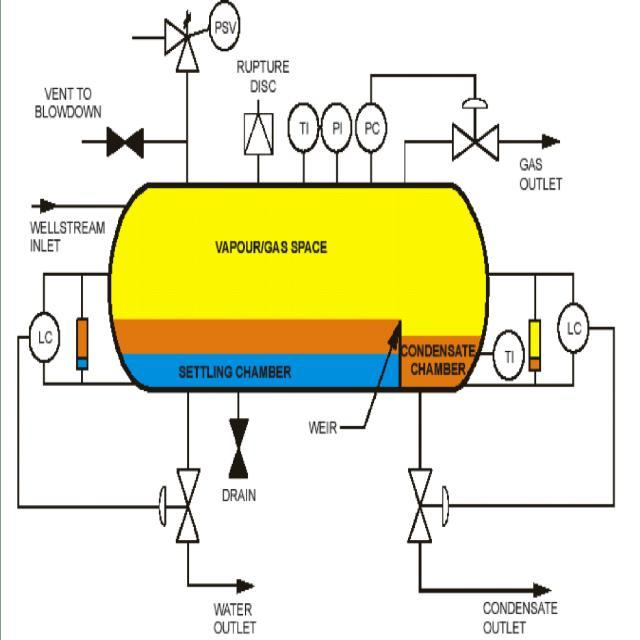Bleeder Valve: (214, 408, 261, 489)
Closed Gate Valve: (101, 114, 156, 174)
PSV: (153, 8, 204, 84)
Pneumatic-Diaphragm Gate Valve: (384, 450, 458, 564), (143, 457, 206, 557), (440, 88, 506, 171)
